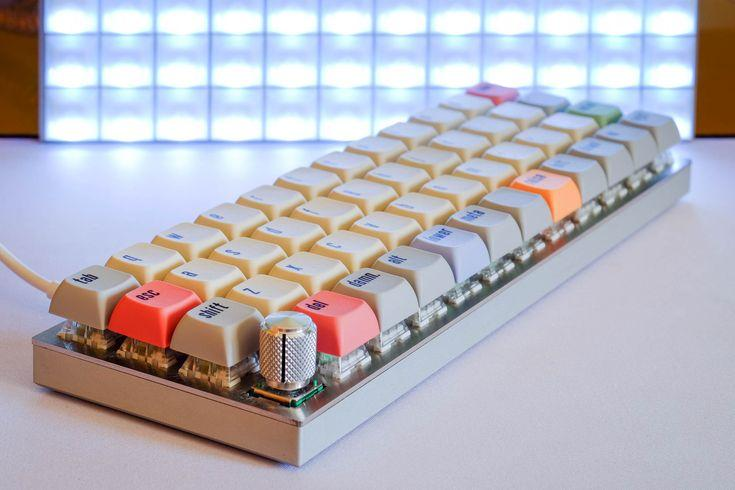keyboard: (30, 79, 694, 470)
